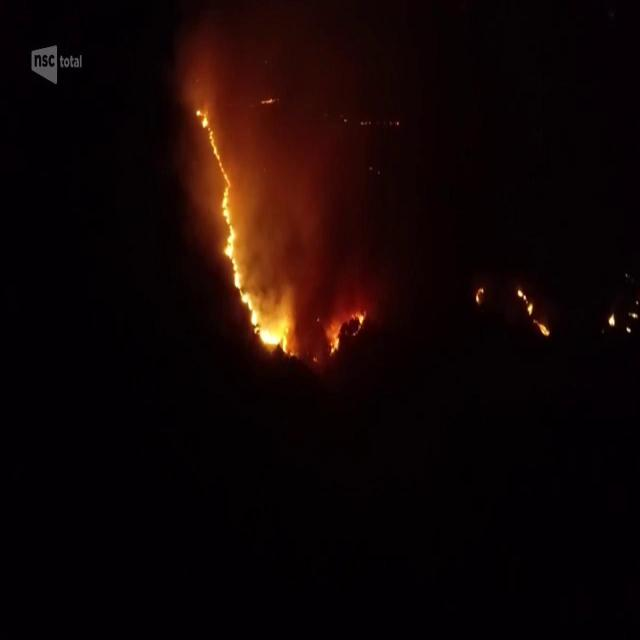Fire: (195, 108, 293, 358), (516, 286, 552, 338), (330, 326, 342, 356), (352, 312, 364, 335), (474, 285, 484, 304), (606, 309, 616, 328)
